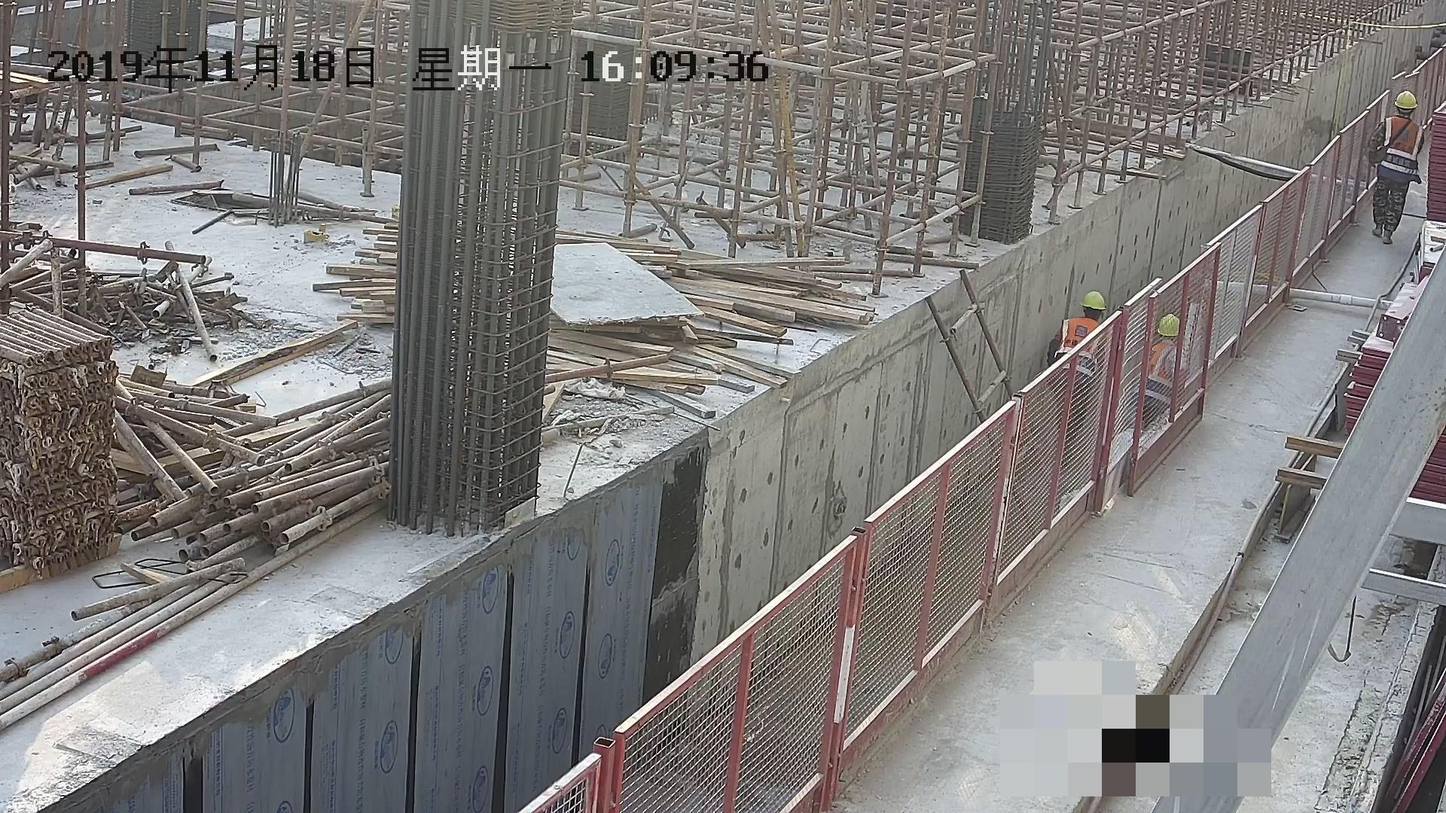hat: (1391, 90, 1423, 115)
person: (1364, 89, 1423, 247)
